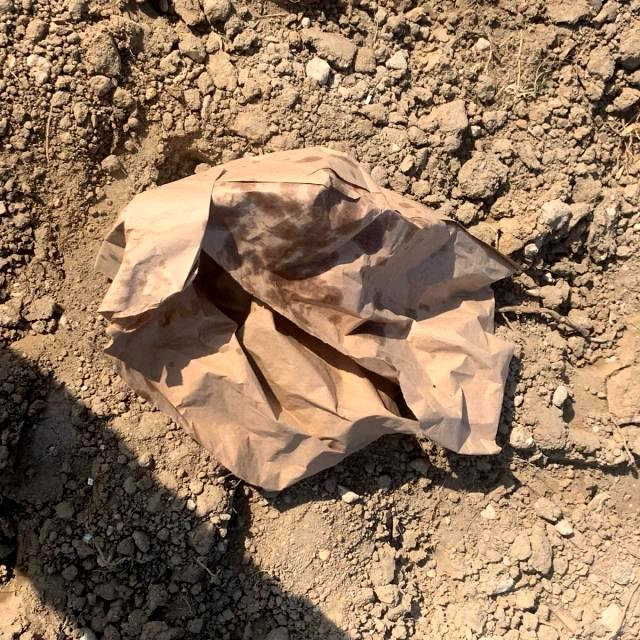Paper: (90, 144, 522, 494)
